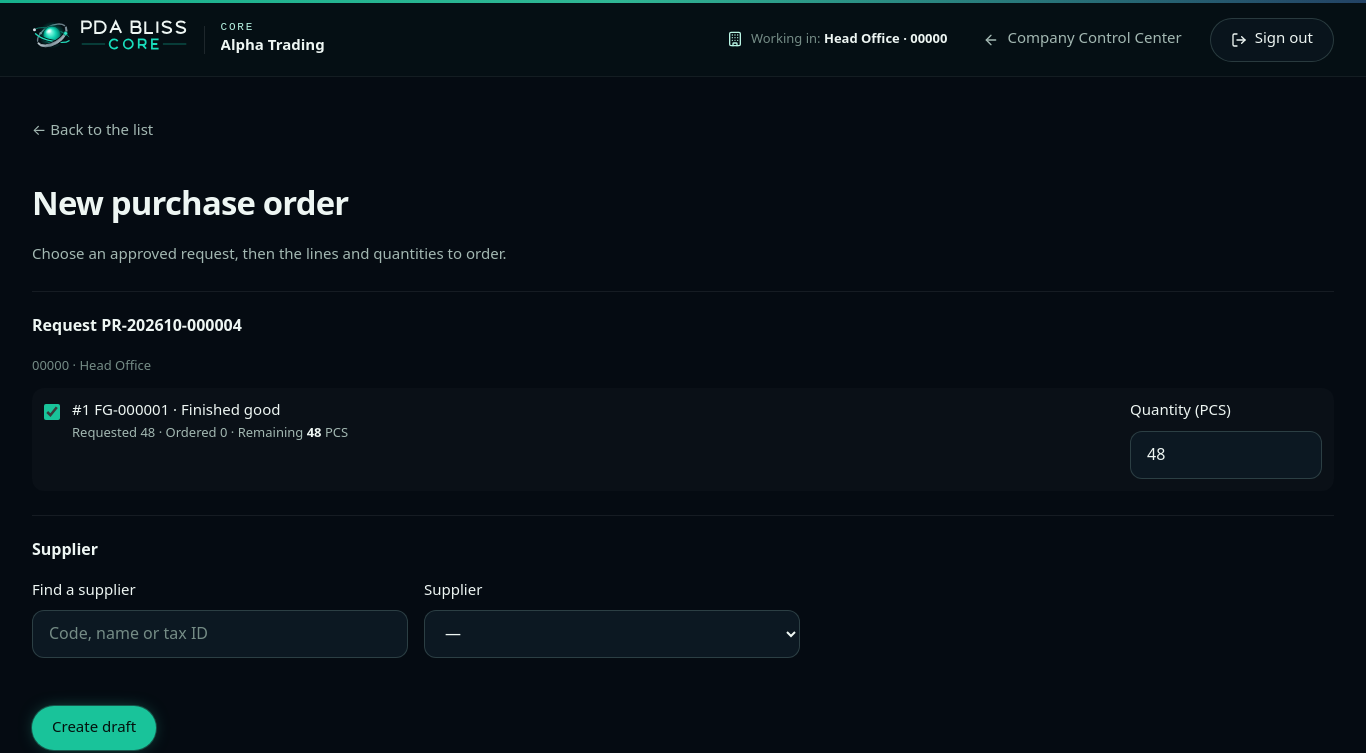
Test case: Purchase orders (EP30) › creates a draft from an approved request: remaining by default, checked before sending, no totals sent
The width and height of the screenshot is (1366, 753).
Replace the text in the field labelled "Quantity (PCS)" with "49" at (1226, 454), box [1130, 430, 1322, 478]
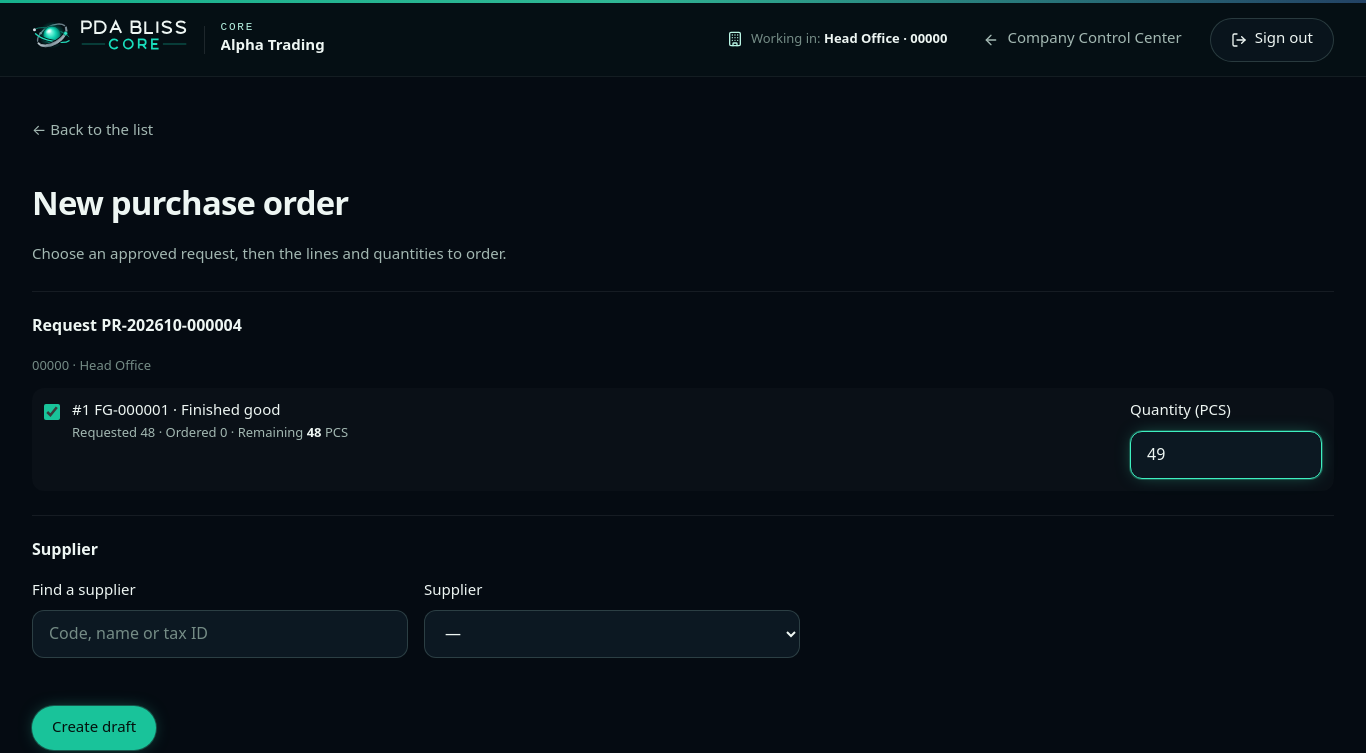
Click the button "Create draft".
click(94, 728)  # box [32, 706, 156, 750]
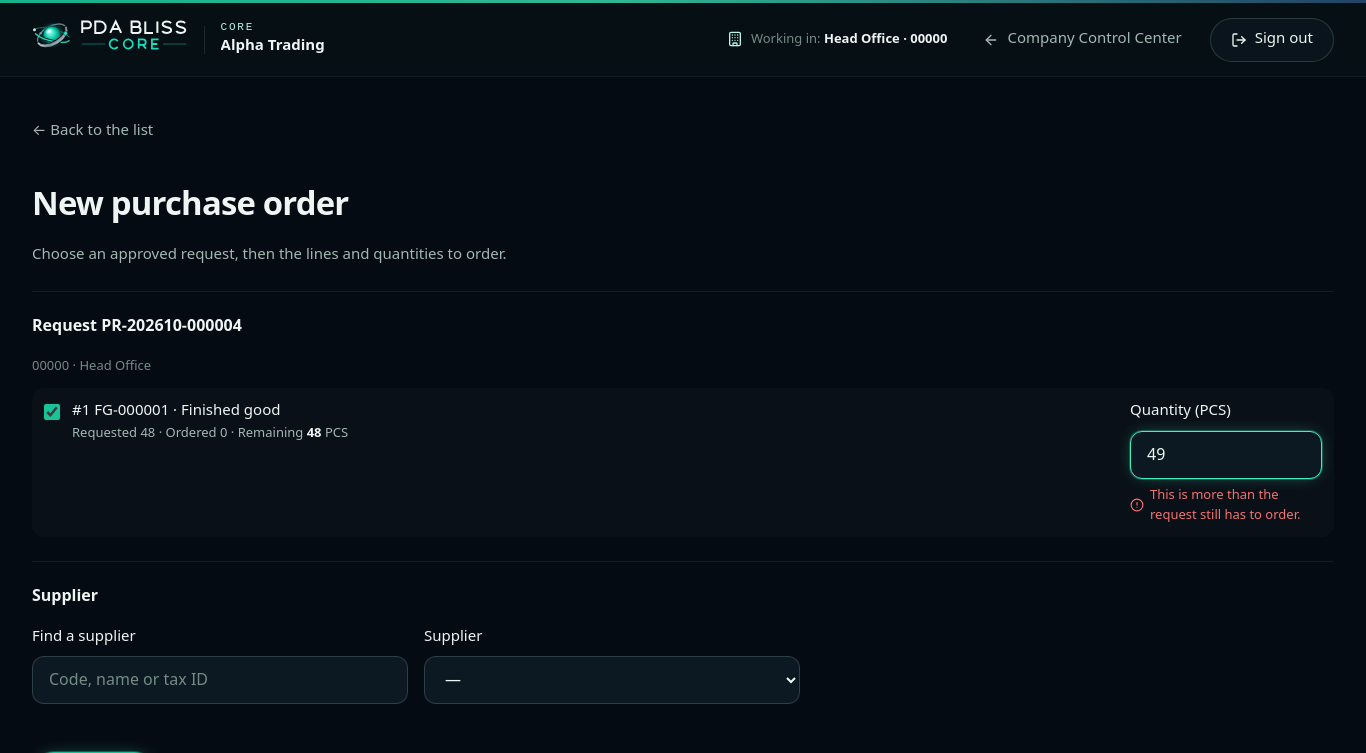
Result: the text "This is more than the request still has to order." is shown at [1130, 484, 1322, 525]
Replace the text in the field labelled "Quantity (PCS)" with "48" at (1226, 454), box [1130, 430, 1322, 478]
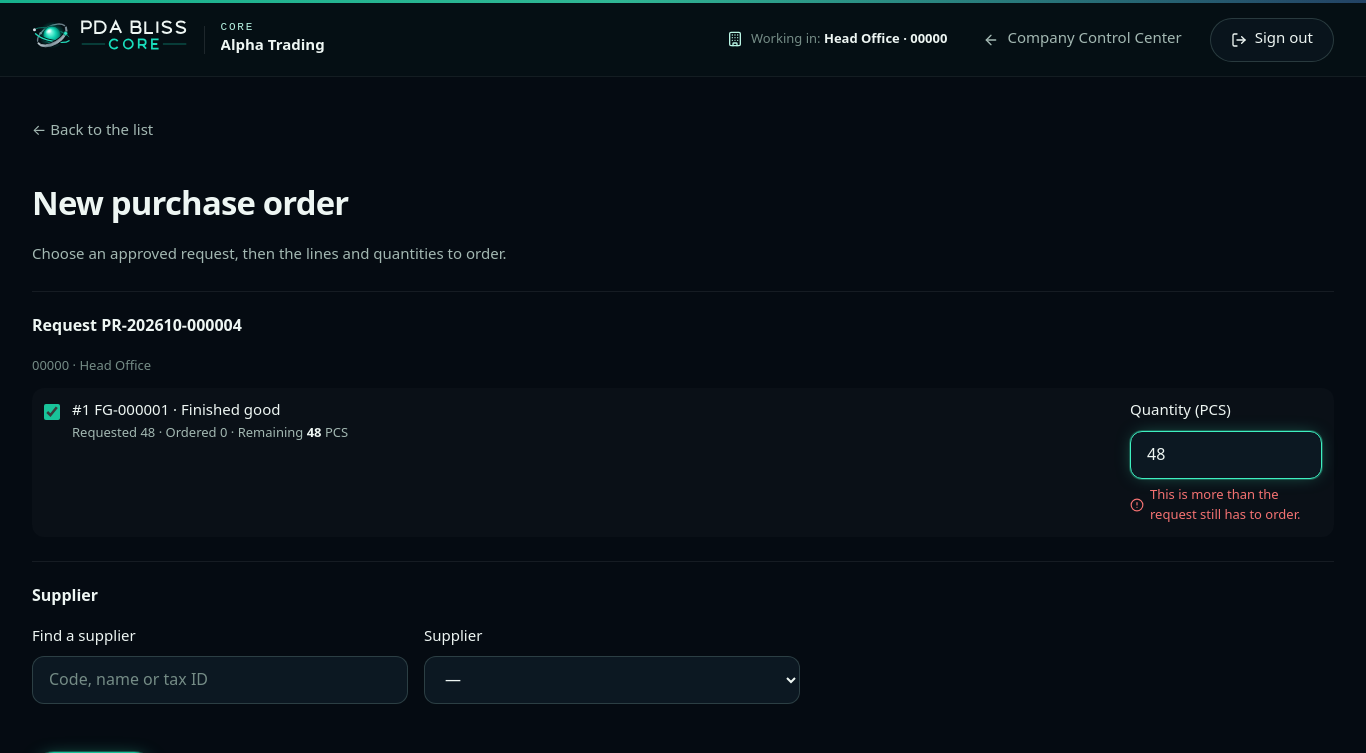
Select "SUP-000001 · Siam Supply" in the dropdown labelled "Supplier" at (612, 680), box [424, 656, 800, 704]
(page scrolled)
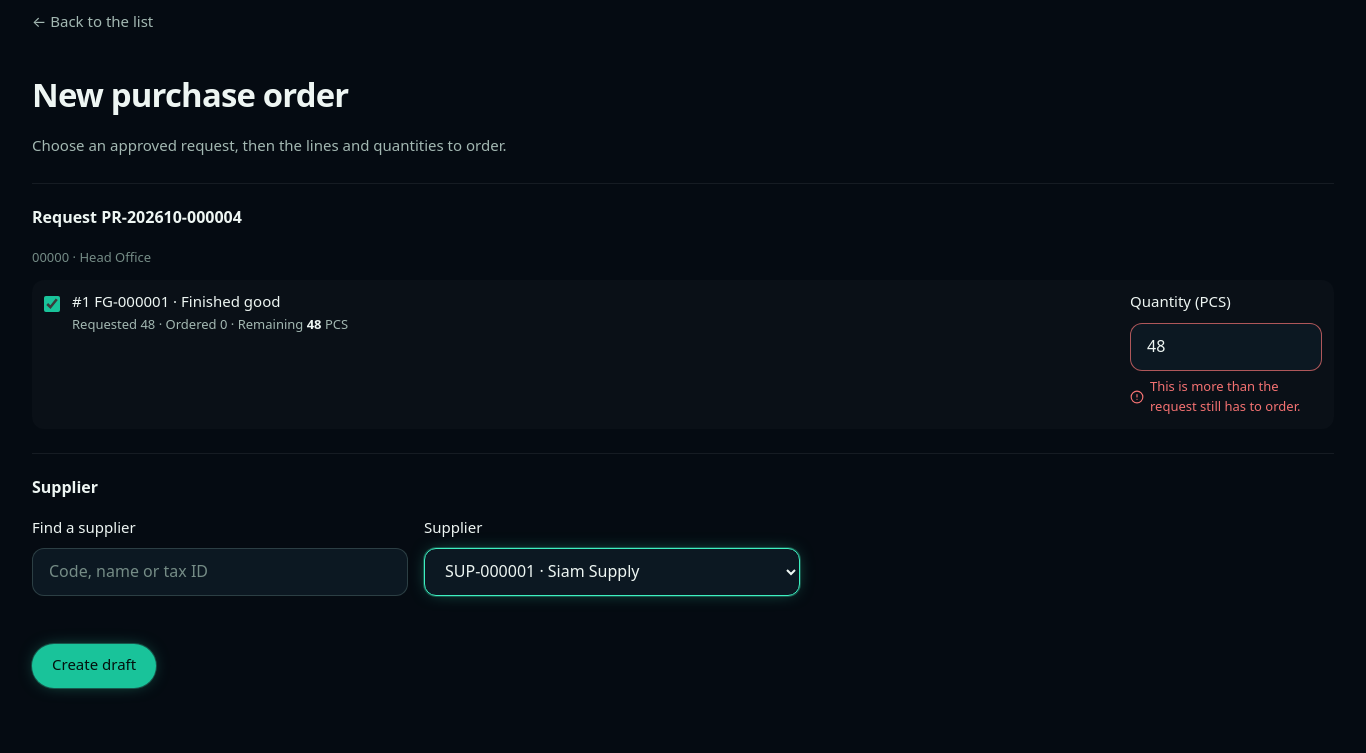
Click the button "Create draft".
click(94, 666)  # box [32, 644, 156, 688]
(page scrolled)
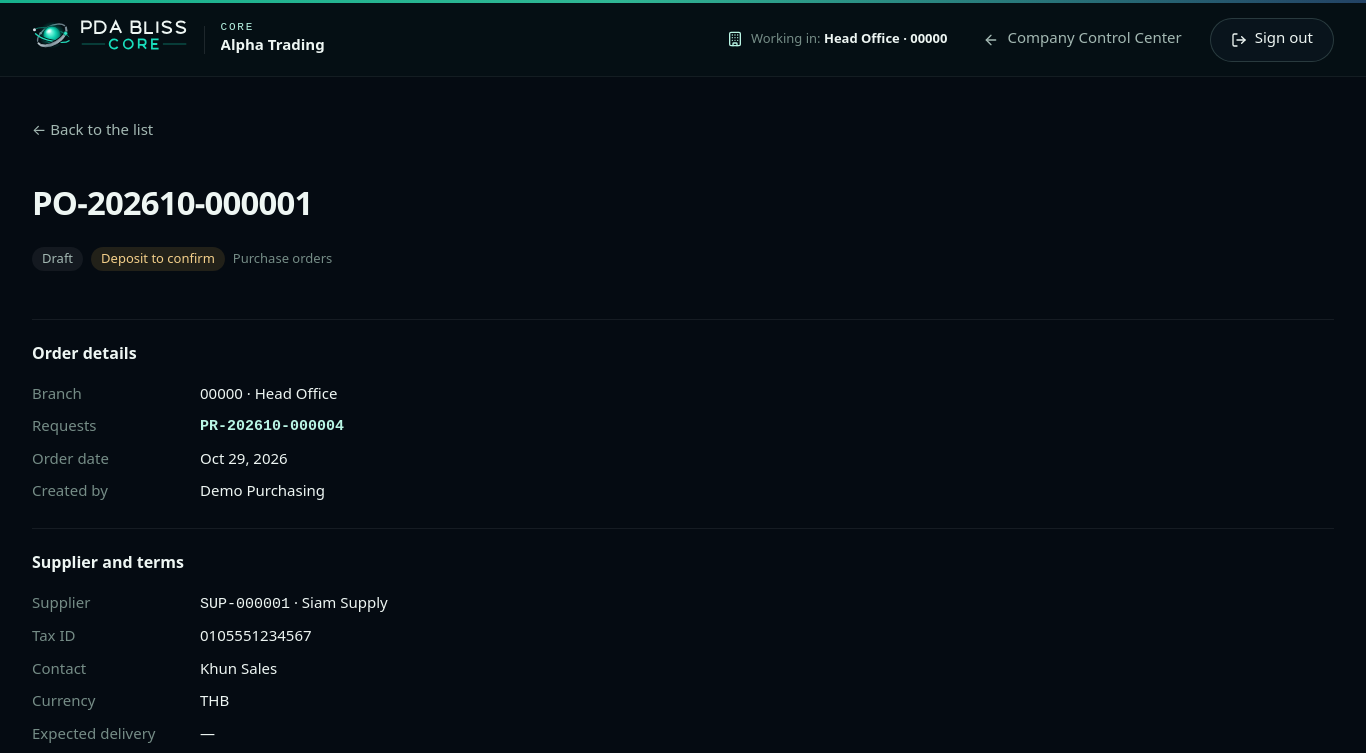
Result: the heading "PO-202610-000001" is shown at [32, 177, 312, 234]
